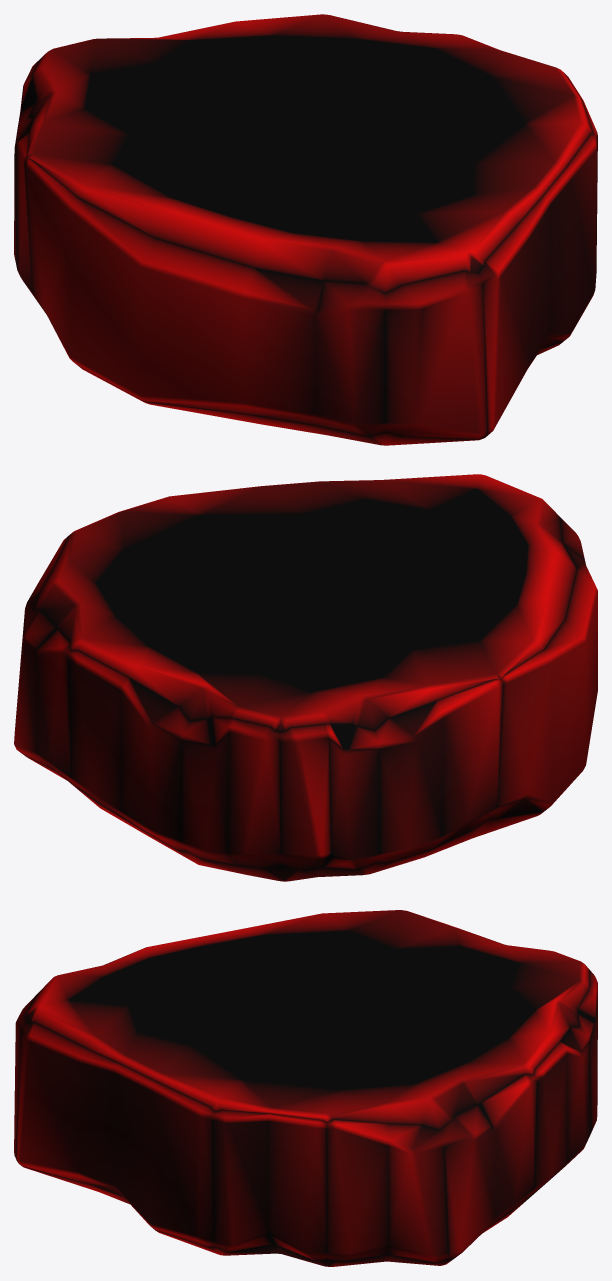
The model's file is SM_FX_Platform_01.FBX.
3 views of the same model, one above another, from view 1: azimuth 30°, elevation 25°; view 2: azimuth 150°, elevation 25°; view 3: azimuth 270°, elevation 25° (orthographic). The views are drawn at different scales.
Parts seen in each view (by area): view 1: SM_FX_Platform_01; view 2: SM_FX_Platform_01; view 3: SM_FX_Platform_01.
Part boxes in pixels (left/top/right/bottom): SM_FX_Platform_01: left=14, top=14, right=597, bottom=445; SM_FX_Platform_01: left=14, top=474, right=597, bottom=881; SM_FX_Platform_01: left=14, top=910, right=597, bottom=1266.
Size of the model in its own units: 275 by 318 by 96.
